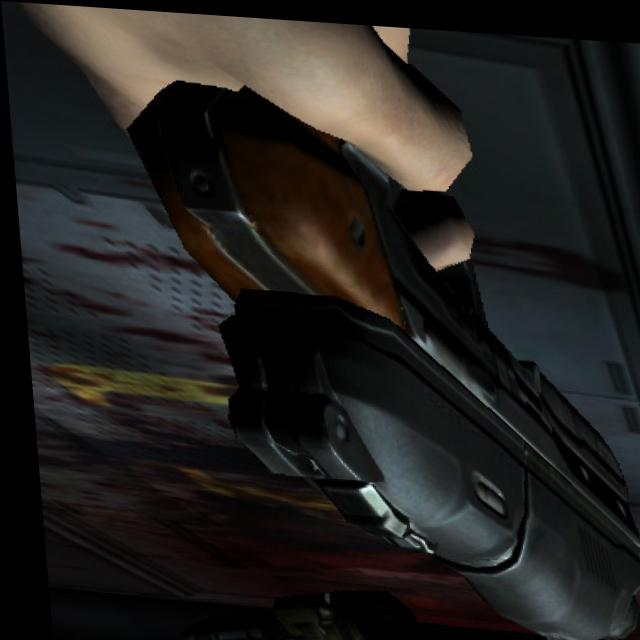handgun: (105, 62, 640, 640)
